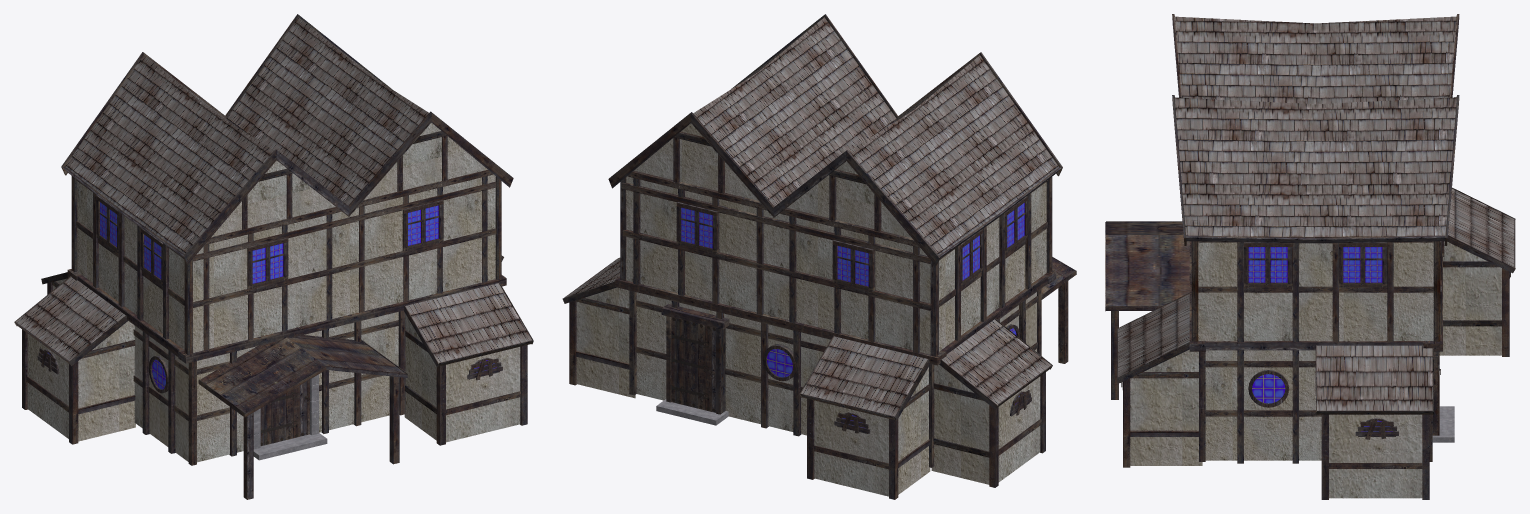
File: house16.dae
3 views of the same model, side by side, from view 1: azimuth 30°, elevation 25°; view 2: azimuth 150°, elevation 25°; view 3: azimuth 270°, elevation 25° (orthographic). The views are drawn at different scales.
Visible parts, largest first — view 1: House1_Roof, House1_Level2, House1_Level2_Beams, House1_Level1, BuildingExtensions4_003, BuildingExtensions4, Roof1Outer, House1_Level1_Beams, BuildingExtensions4Roof, House1_Roof_Frame, BuildingExtensions4Roof_003, House1_Level1_SeperatorBeams (+15 smaller); view 2: House1_Roof, House1_Level2, House1_Level2_Beams, House1_Level1, BuildingExtensions4_003, BuildingExtensions4_001, BuildingExtensions4Roof_001, House1_Roof_Frame, House1_Level1_Beams, BuildingExtensions4Roof_003, BuildingExtensions4_002, House1_Level1_SeperatorBeams (+17 smaller); view 3: House1_Roof, House1_Level2, House1_Level1, BuildingExtensions4Roof_002, BuildingExtensions4_002, Roof1Outer, BuildingExtensions4, House1_Level2_Beams, BuildingExtensions4_001, House1_Level1_Beams, BuildingExtensions4Roof, BuildingExtensions4Roof_001 (+19 smaller).
Part boxes in pixels (left/top/right/bottom): House1_Roof: left=65, top=17, right=428, bottom=253; House1_Level2: left=77, top=123, right=495, bottom=352; House1_Level2_Beams: left=71, top=131, right=501, bottom=354; House1_Level1: left=134, top=312, right=398, bottom=462; BuildingExtensions4_003: left=27, top=321, right=135, bottom=441; BuildingExtensions4: left=404, top=314, right=520, bottom=442; Roof1Outer: left=200, top=335, right=405, bottom=412; House1_Level1_Beams: left=133, top=310, right=405, bottom=465; BuildingExtensions4Roof: left=405, top=283, right=531, bottom=362; House1_Roof_Frame: left=61, top=14, right=513, bottom=264; BuildingExtensions4Roof_003: left=16, top=277, right=125, bottom=360; House1_Level1_SeperatorBeams: left=67, top=269, right=506, bottom=363; House1_Roof: left=693, top=17, right=1058, bottom=254; House1_Level2: left=626, top=123, right=1046, bottom=354; House1_Level2_Beams: left=620, top=131, right=1052, bottom=356; House1_Level1: left=636, top=292, right=1036, bottom=435; BuildingExtensions4_003: left=931, top=364, right=1040, bottom=484; BuildingExtensions4_001: left=814, top=367, right=930, bottom=496; BuildingExtensions4Roof_001: left=801, top=336, right=927, bottom=416; House1_Roof_Frame: left=608, top=14, right=1062, bottom=265; House1_Level1_Beams: left=629, top=288, right=1041, bottom=467; BuildingExtensions4Roof_003: left=942, top=319, right=1051, bottom=404; BuildingExtensions4_002: left=576, top=287, right=635, bottom=398; House1_Level1_SeperatorBeams: left=615, top=270, right=1056, bottom=365; House1_Roof: left=1174, top=16, right=1456, bottom=237; House1_Level2: left=1198, top=242, right=1433, bottom=340; House1_Level1: left=1205, top=350, right=1321, bottom=460; BuildingExtensions4Roof_002: left=1316, top=345, right=1432, bottom=410; BuildingExtensions4_002: left=1329, top=414, right=1422, bottom=498; Roof1Outer: left=1106, top=222, right=1189, bottom=305; BuildingExtensions4: left=1130, top=349, right=1202, bottom=465; House1_Level2_Beams: left=1191, top=220, right=1442, bottom=341; BuildingExtensions4_001: left=1439, top=241, right=1501, bottom=355; House1_Level1_Beams: left=1199, top=350, right=1432, bottom=463; BuildingExtensions4Roof: left=1118, top=294, right=1189, bottom=377; BuildingExtensions4Roof_001: left=1448, top=188, right=1514, bottom=266.
Bounding box in the file's own units: 10.92 × 8.36 × 7.57.
21 materials, 21 textured.
